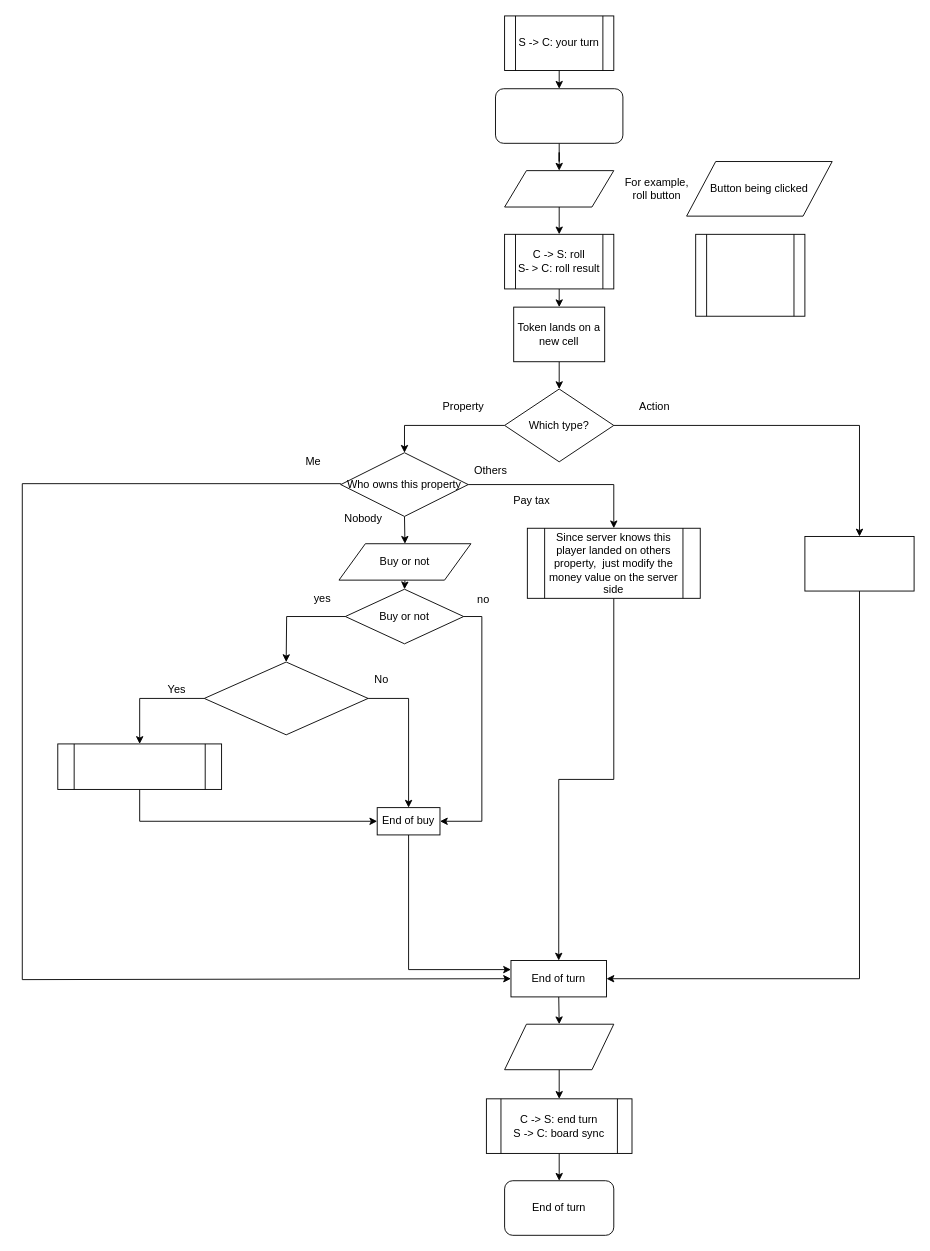
The diagram is 930 pixels wide and 1251 high, and some of its shapes have lost their labels. The centre of each missing label's shape, as x and y in pixels:
"C -> S: buy S -> C: buy ack" goes at (139,766).
"Client side checks if this player has enough money" goes at (285,698).
"End turn" goes at (559,1046).
"New turn (in the perspective of one player)" goes at (559,115).
"Roll the dice" goes at (559,188).
"This shape contains message to be transmitted" goes at (750,274).
"What happens depends on the server side" goes at (859,563).
